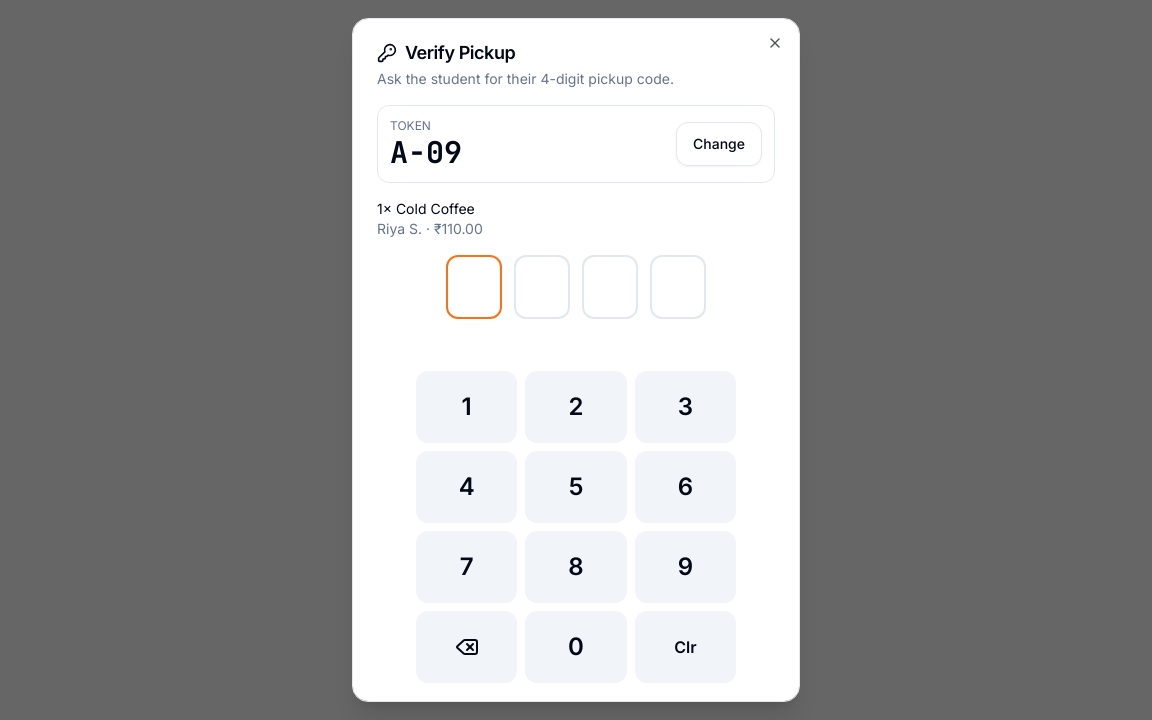
it: PickupVerifyModal › 429 shows a countdown and disables the pad
This screenshot has width=1152, height=720.
Click the button "1" at (467,407), box [416,371,517,443]
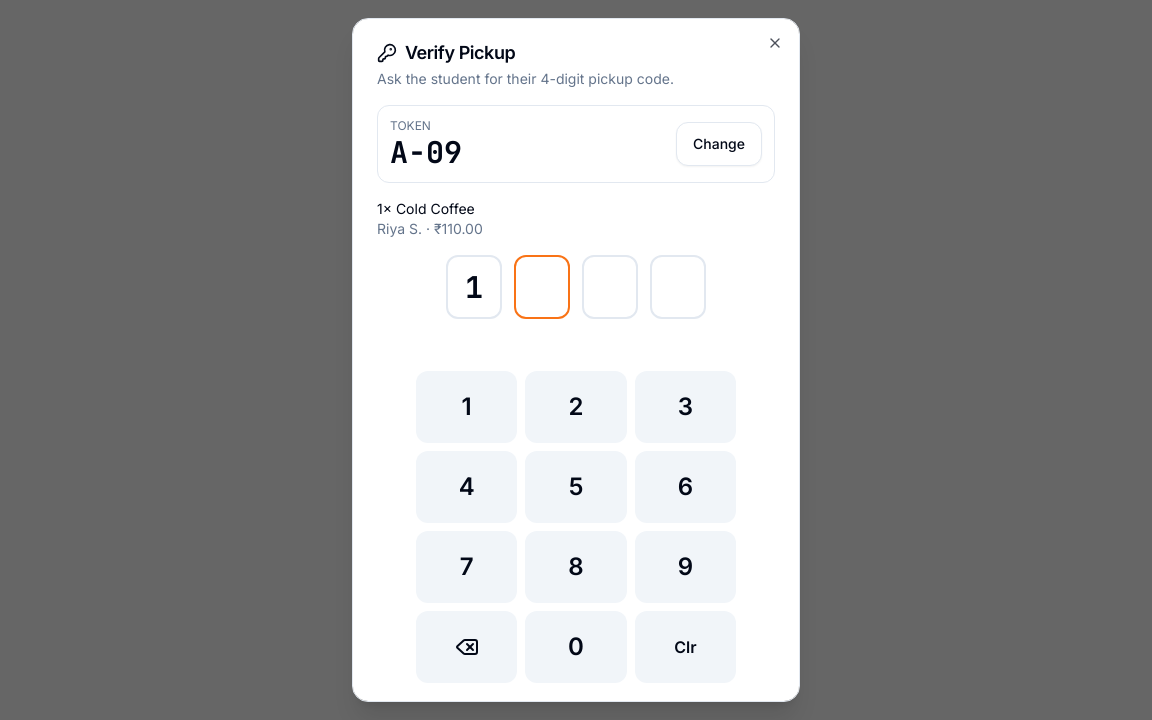
Click the button "1" at (467,407), box [416,371,517,443]
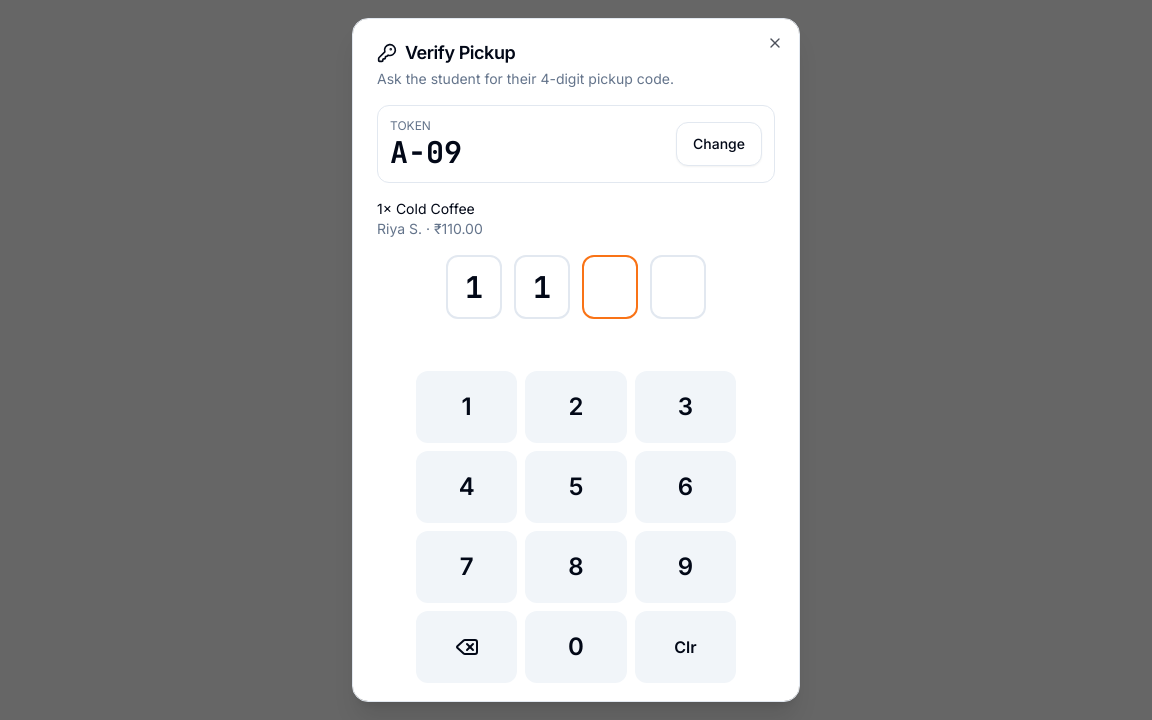
Click the button "1" at (467,407), box [416,371,517,443]
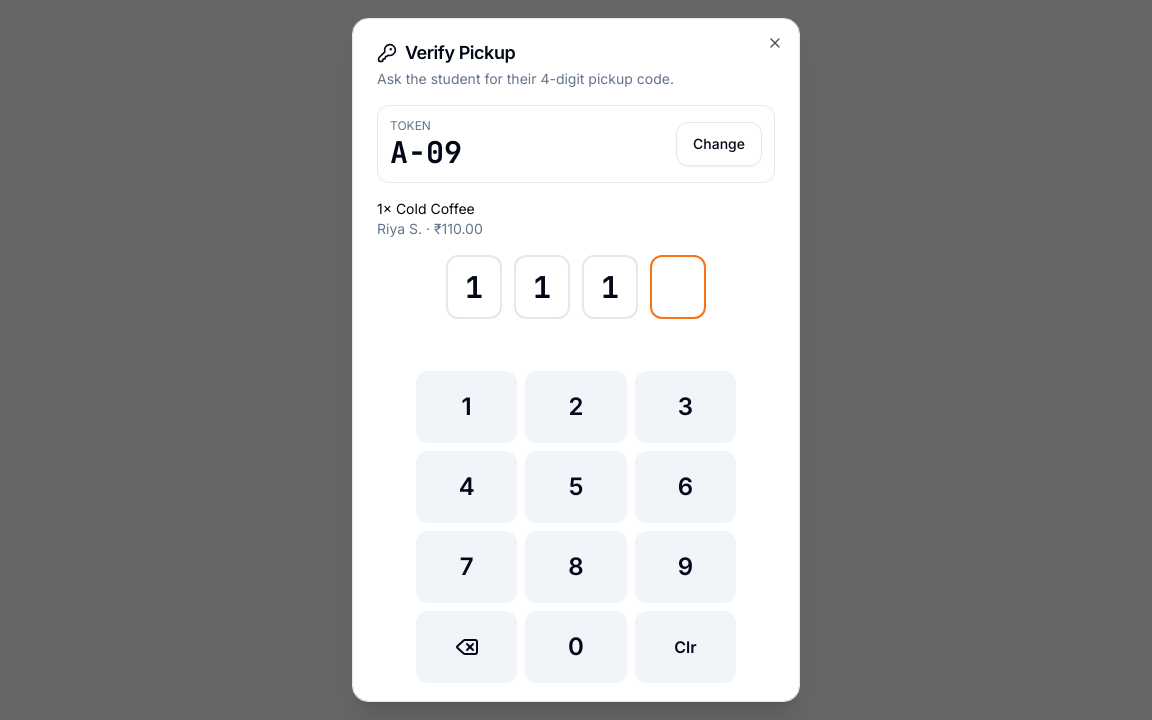
Click the button "1" at (467,407), box [416,371,517,443]
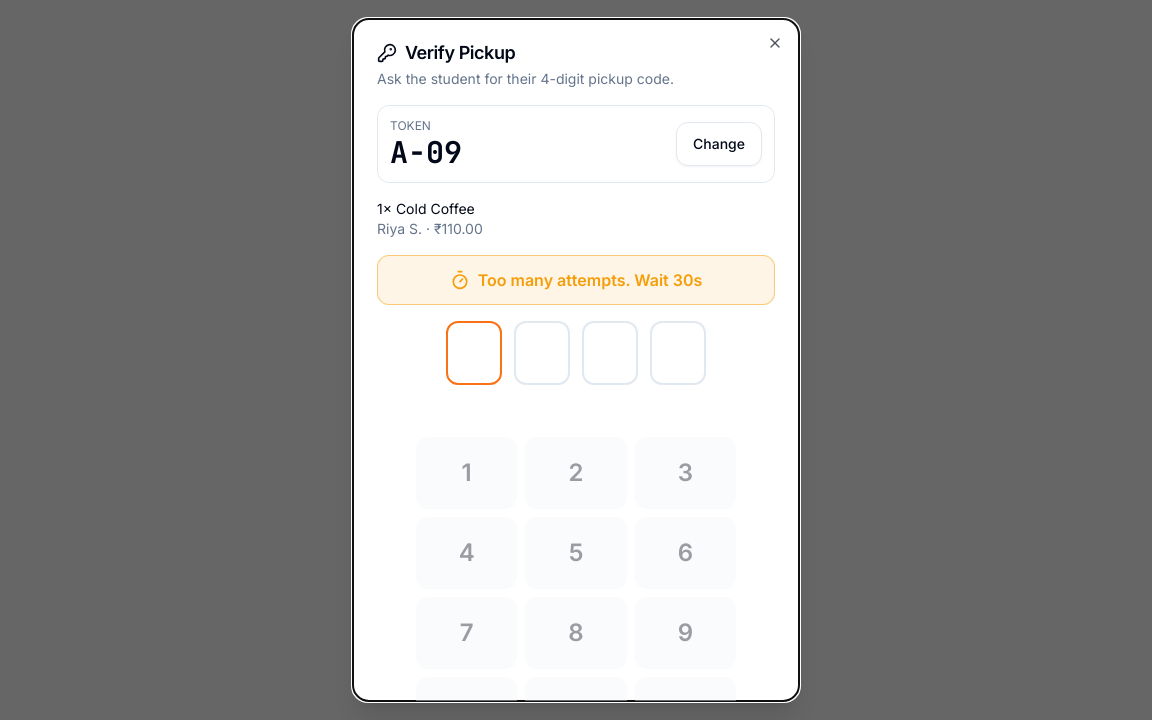
Check: the text "Too many attempts. Wait 30s" is shown, box [377,255,775,305]
Check: the button "5" is disabled, box [525,517,627,589]
